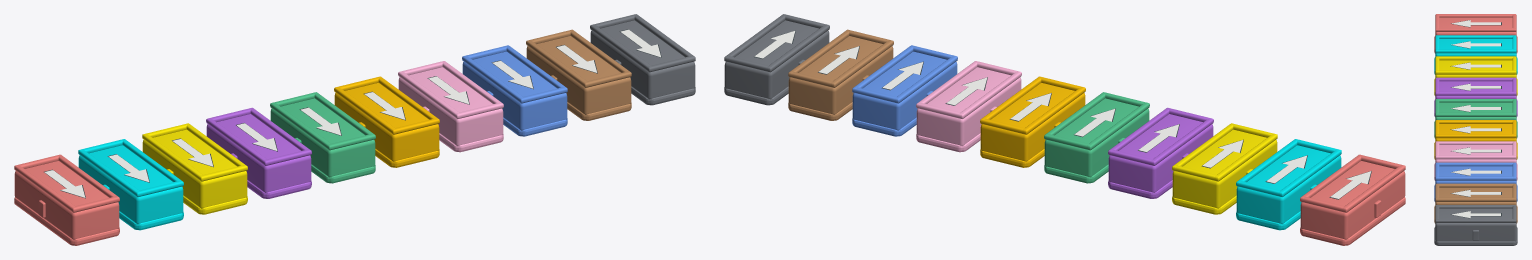
Rendered from ArrowVehicle_Large_10Colors.fbx.
3 renders of one model, left to right at view 1: azimuth 30°, elevation 25°; view 2: azimuth 150°, elevation 25°; view 3: azimuth 270°, elevation 25°, orthographic. The views are drawn at different scales.
Parts seen in each view (by area): view 1: Vehicle_Large_Red, Vehicle_Large_Brown, Vehicle_Large_Charcoal, Vehicle_Large_Orange, Vehicle_Large_Pink, Vehicle_Large_Blue, Vehicle_Large_Cyan, Vehicle_Large_Green, Vehicle_Large_Yellow, Vehicle_Large_Purple, Direction_Large_Blue, Direction_Large_Cyan (+8 smaller); view 2: Vehicle_Large_Red, Vehicle_Large_Yellow, Vehicle_Large_Green, Vehicle_Large_Charcoal, Vehicle_Large_Pink, Vehicle_Large_Blue, Vehicle_Large_Brown, Vehicle_Large_Cyan, Vehicle_Large_Orange, Vehicle_Large_Purple, Direction_Large_Cyan, Direction_Large_Green (+8 smaller); view 3: Vehicle_Large_Charcoal, Vehicle_Large_Cyan, Vehicle_Large_Orange, Vehicle_Large_Pink, Vehicle_Large_Red, Vehicle_Large_Yellow, Vehicle_Large_Blue, Vehicle_Large_Brown, Vehicle_Large_Purple, Vehicle_Large_Green, Direction_Large_Orange, Direction_Large_Pink (+8 smaller).
Part boxes in pixels (x1=…): Vehicle_Large_Red: x1=14, y1=154, x2=119, y2=245; Vehicle_Large_Brown: x1=526, y1=29, x2=631, y2=120; Vehicle_Large_Charcoal: x1=590, y1=14, x2=695, y2=105; Vehicle_Large_Orange: x1=334, y1=76, x2=439, y2=167; Vehicle_Large_Pink: x1=398, y1=61, x2=503, y2=152; Vehicle_Large_Blue: x1=462, y1=45, x2=567, y2=136; Vehicle_Large_Cyan: x1=78, y1=139, x2=183, y2=230; Vehicle_Large_Green: x1=270, y1=92, x2=375, y2=183; Vehicle_Large_Yellow: x1=142, y1=123, x2=247, y2=214; Vehicle_Large_Purple: x1=206, y1=107, x2=311, y2=198; Direction_Large_Blue: x1=491, y1=60, x2=533, y2=89; Direction_Large_Cyan: x1=107, y1=154, x2=149, y2=182; Vehicle_Large_Red: x1=1300, y1=154, x2=1405, y2=245; Vehicle_Large_Yellow: x1=1172, y1=123, x2=1277, y2=214; Vehicle_Large_Green: x1=1044, y1=92, x2=1149, y2=183; Vehicle_Large_Charcoal: x1=724, y1=14, x2=829, y2=105; Vehicle_Large_Pink: x1=916, y1=61, x2=1021, y2=152; Vehicle_Large_Blue: x1=852, y1=45, x2=957, y2=136; Vehicle_Large_Brown: x1=788, y1=29, x2=893, y2=120; Vehicle_Large_Cyan: x1=1236, y1=139, x2=1341, y2=230; Vehicle_Large_Orange: x1=980, y1=76, x2=1085, y2=167; Vehicle_Large_Purple: x1=1108, y1=107, x2=1213, y2=198; Direction_Large_Cyan: x1=1265, y1=155, x2=1307, y2=183; Direction_Large_Green: x1=1074, y1=108, x2=1115, y2=137; Vehicle_Large_Charcoal: x1=1434, y1=205, x2=1517, y2=245; Vehicle_Large_Cyan: x1=1434, y1=35, x2=1517, y2=74; Vehicle_Large_Orange: x1=1434, y1=120, x2=1517, y2=159; Vehicle_Large_Pink: x1=1434, y1=141, x2=1517, y2=180; Vehicle_Large_Red: x1=1434, y1=14, x2=1517, y2=53; Vehicle_Large_Yellow: x1=1434, y1=56, x2=1517, y2=95; Vehicle_Large_Blue: x1=1434, y1=162, x2=1517, y2=201; Vehicle_Large_Brown: x1=1434, y1=183, x2=1517, y2=223; Vehicle_Large_Purple: x1=1434, y1=77, x2=1517, y2=116; Vehicle_Large_Green: x1=1434, y1=99, x2=1517, y2=138; Direction_Large_Orange: x1=1450, y1=126, x2=1501, y2=133; Direction_Large_Pink: x1=1451, y1=147, x2=1501, y2=154.
Bounding box in the file's own units: 24.56 × 1.42 × 4.15.
